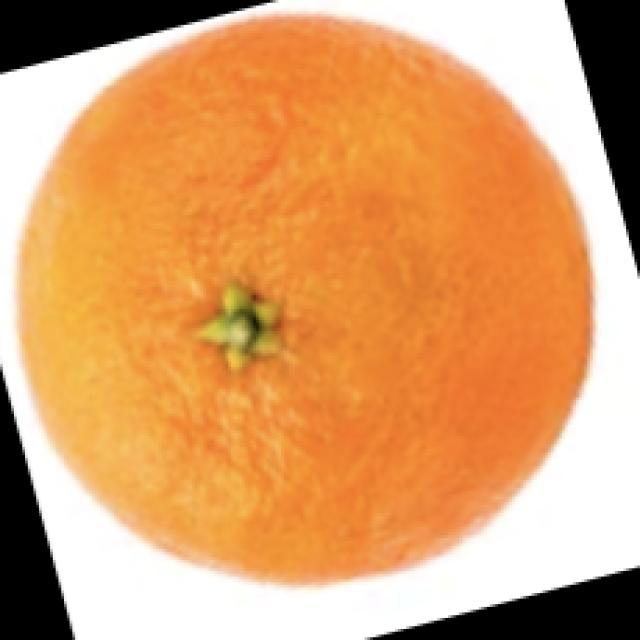matang: (20, 16, 592, 581)
